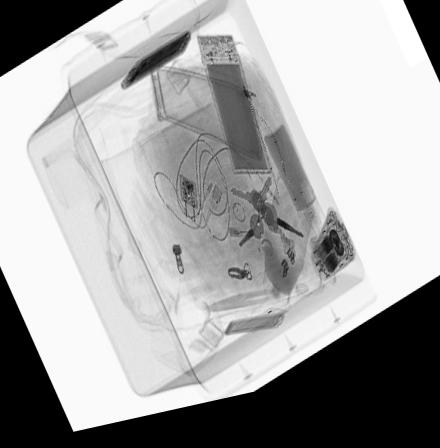Powerbank: (196, 41, 271, 186)
